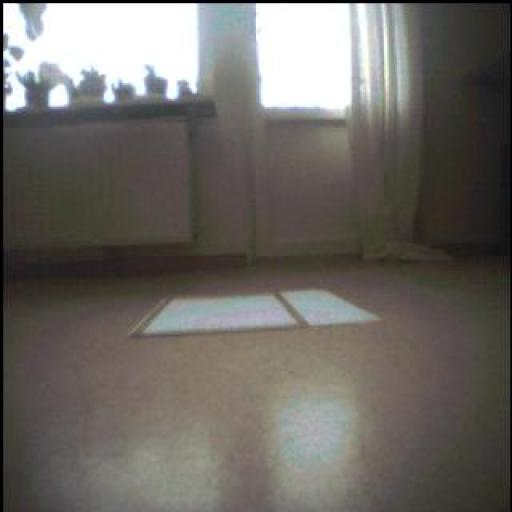Pad: (123, 296, 401, 337)
